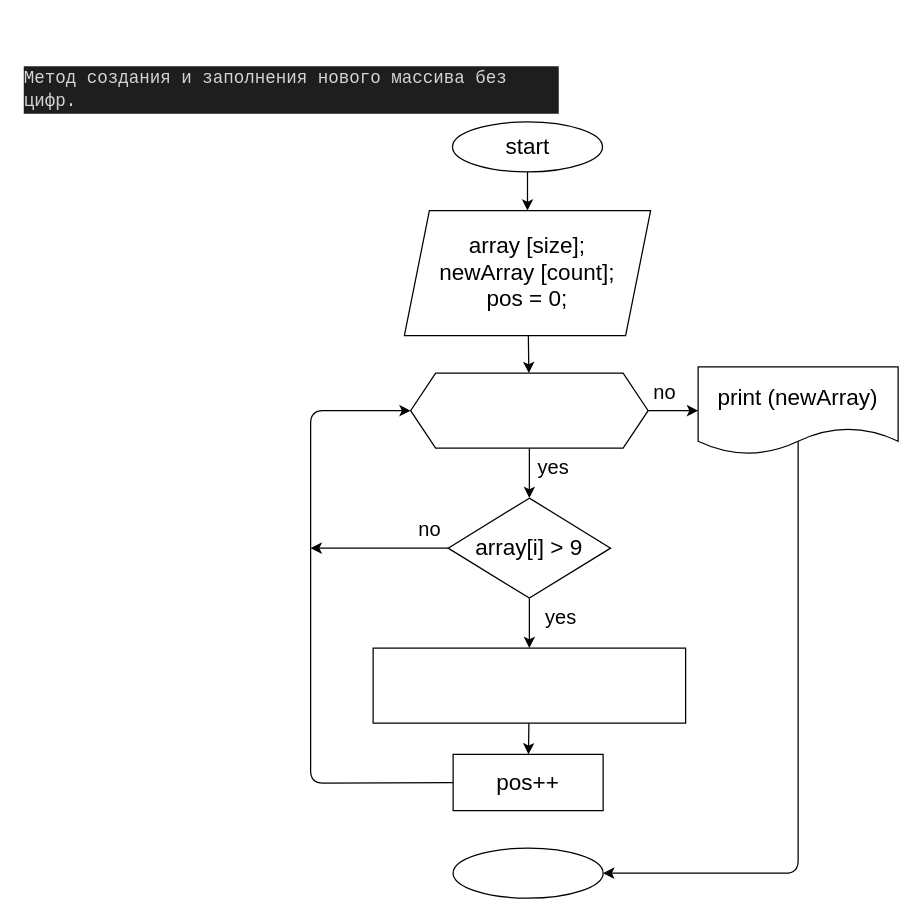
Image size: 920x920. Some labels were removed from this diagram. Here are the shapes that lost their labels. From the top down, the centre of each, then its label:
the point at 528,410: i = 0; i < size; i++
the point at 529,685: newArray[pos] = array[i]
the point at 527,872: end
